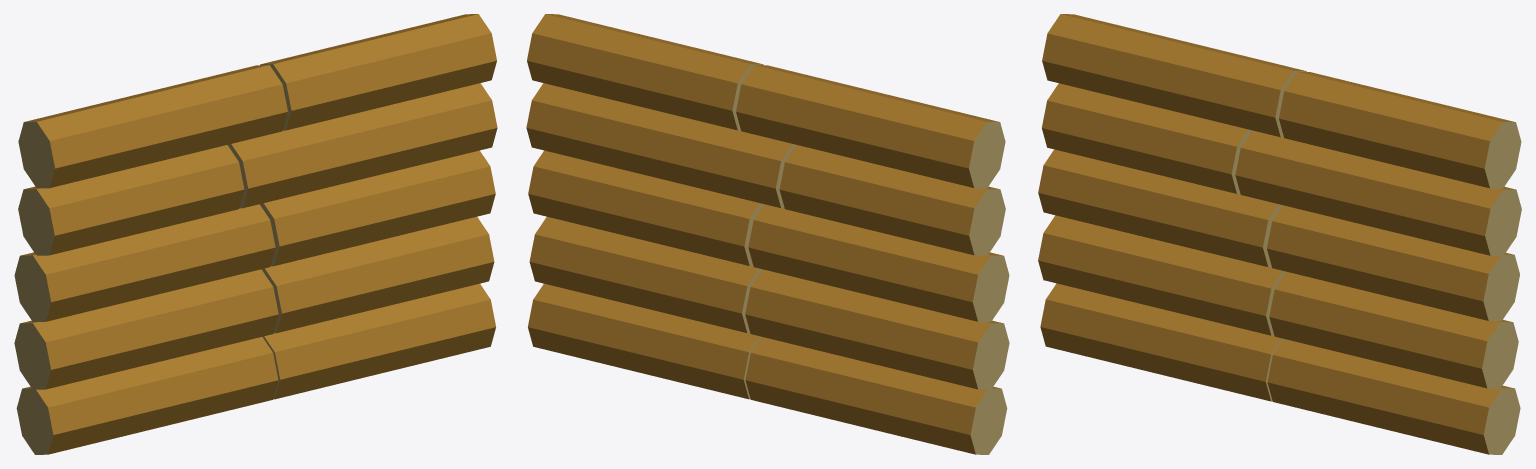
The model's file is Wall_Wooden.fbx.
The picture shows the model from 3 angles, left to right: view 1: azimuth 30°, elevation 25°; view 2: azimuth 150°, elevation 25°; view 3: azimuth 330°, elevation 25°; orthographic projection.
Parts seen in each view (by area): view 1: Cylinder.032; view 2: Cylinder.032; view 3: Cylinder.032.
Boxes of the visible parts, x1=… form: Cylinder.032: x1=14, y1=14, x2=497, y2=454; Cylinder.032: x1=526, y1=14, x2=1009, y2=454; Cylinder.032: x1=1038, y1=14, x2=1521, y2=454.
Bounding box in the file's own units: 83151 × 59220 × 11851.
